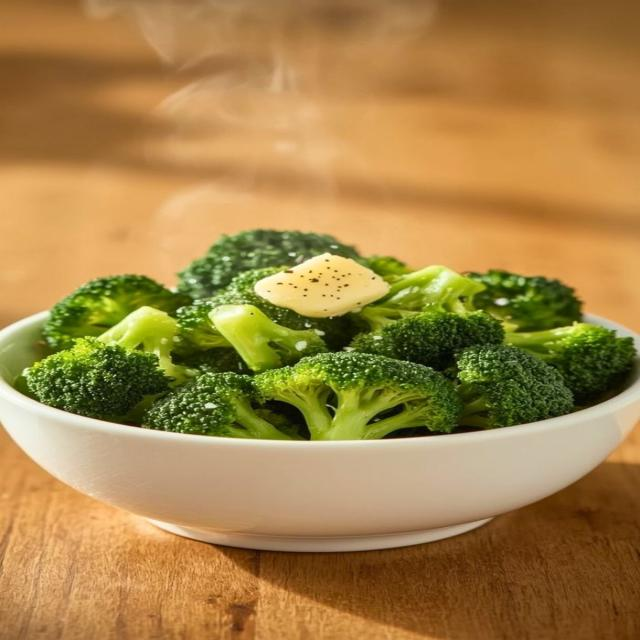broccoli: (26, 307, 193, 421), (256, 352, 459, 439), (177, 267, 356, 353), (179, 230, 360, 298), (26, 338, 170, 420), (43, 275, 191, 349), (507, 323, 635, 404), (143, 373, 294, 439), (458, 345, 573, 428), (351, 310, 504, 370), (355, 266, 484, 332), (209, 305, 327, 371), (99, 307, 192, 382), (468, 270, 581, 331), (175, 300, 230, 355), (174, 348, 252, 374), (360, 256, 412, 277)
